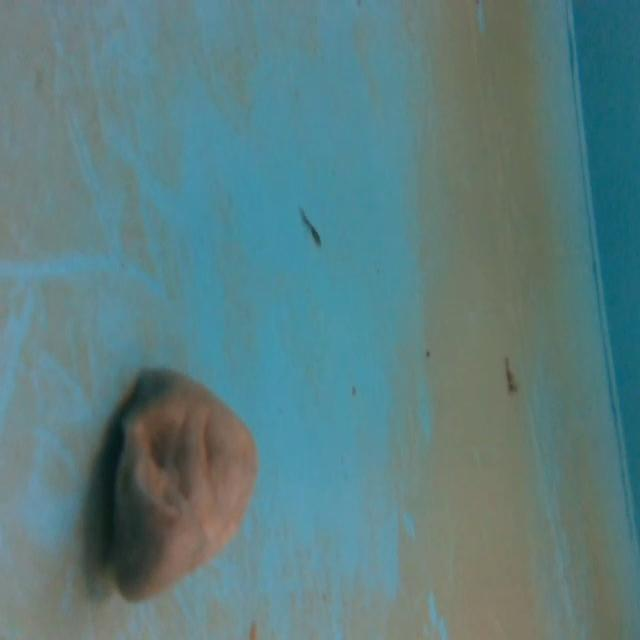rock: (100, 362, 264, 618)
